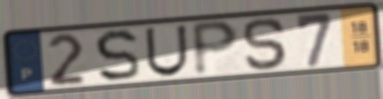2: (45, 31, 92, 89)
7: (294, 12, 335, 70)
P: (190, 19, 242, 78)
S: (241, 16, 291, 72), (92, 28, 142, 84)
U: (143, 23, 190, 79)
